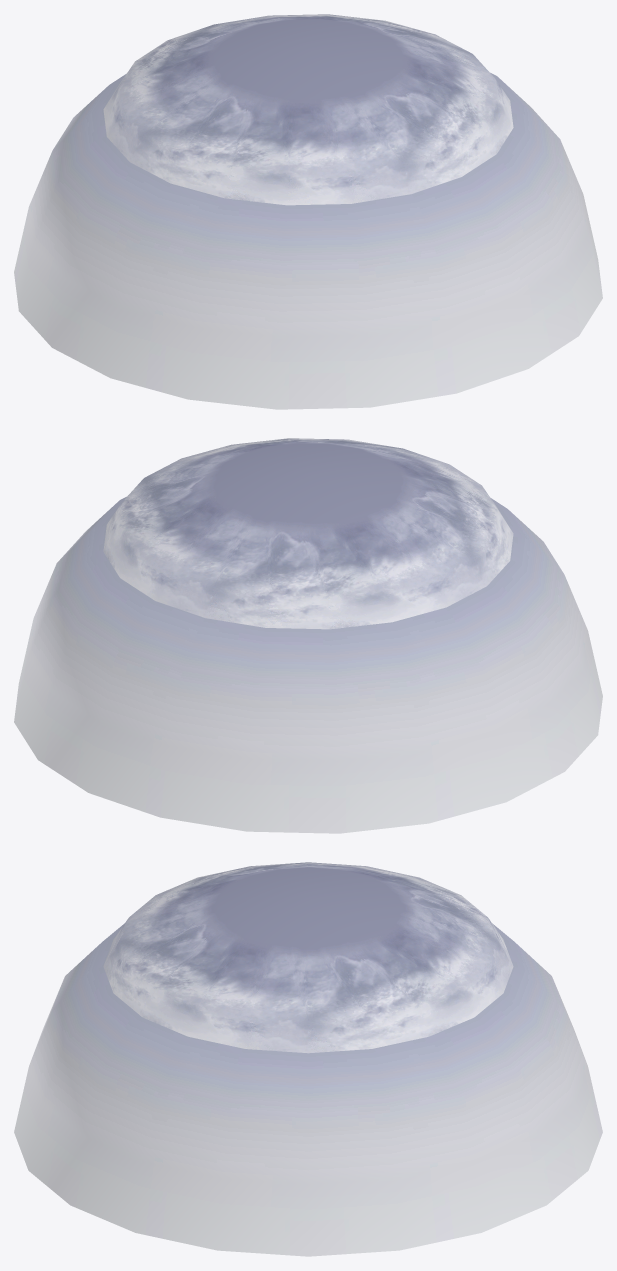
Rendered from stage-mach-sky.glb.
3 renders of one model, top to bottom at view 1: azimuth 30°, elevation 25°; view 2: azimuth 150°, elevation 25°; view 3: azimuth 270°, elevation 25°, orthographic.
Visible parts, largest first — view 1: sky; view 2: sky; view 3: sky.
Part boxes in pixels (x1,y1,x2,y2): sky: [14, 14, 602, 409]; sky: [14, 438, 602, 833]; sky: [14, 862, 602, 1256].
Bounding box in the file's own units: 3660 × 1605 × 3660.
3 materials, 3 textured.
